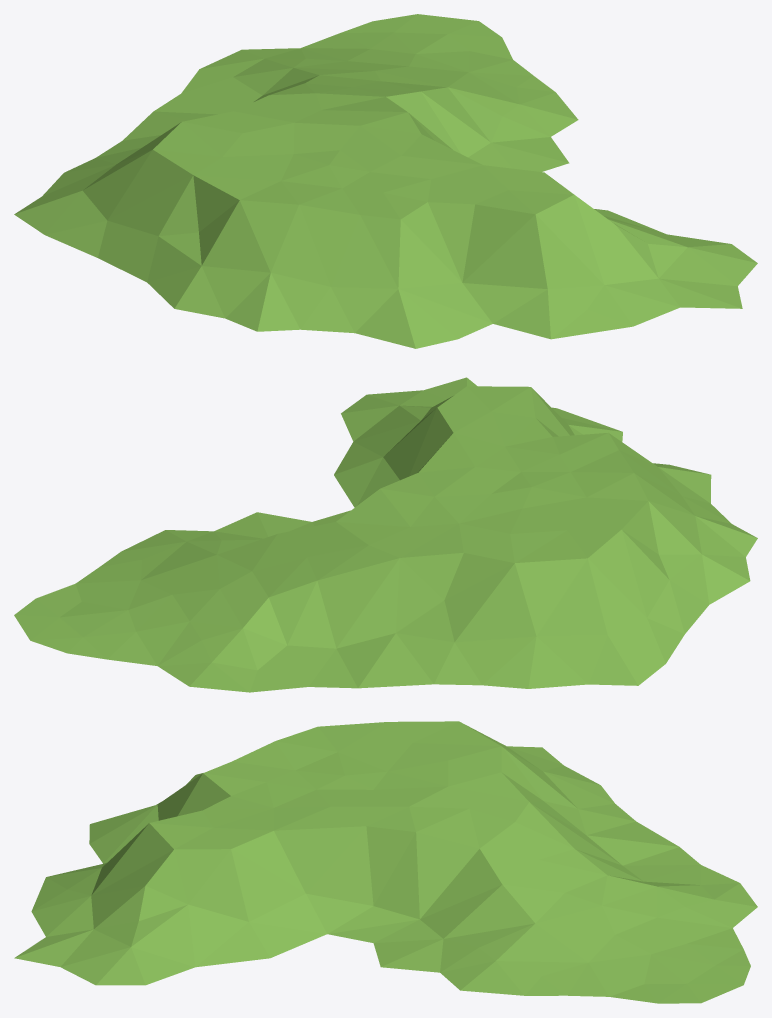
File: MT_Mountain_M_c_22.fbx
3 renders of one model, top to bottom at view 1: azimuth 30°, elevation 25°; view 2: azimuth 150°, elevation 25°; view 3: azimuth 270°, elevation 25°, orthographic. The views are drawn at different scales.
Visible parts, largest first — view 1: MT_Mountain_M_c_22; view 2: MT_Mountain_M_c_22; view 3: MT_Mountain_M_c_22.
Part boxes in pixels (left/top/right/bottom): MT_Mountain_M_c_22: left=14, top=14, right=757, bottom=348; MT_Mountain_M_c_22: left=14, top=377, right=757, bottom=692; MT_Mountain_M_c_22: left=14, top=721, right=757, bottom=1003.
Bounding box in the file's own units: 3311 × 453 × 4082.
